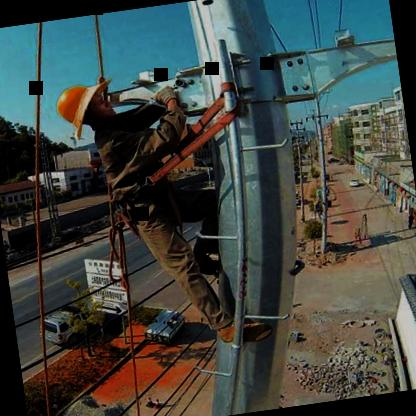helmet: (47, 74, 122, 138)
